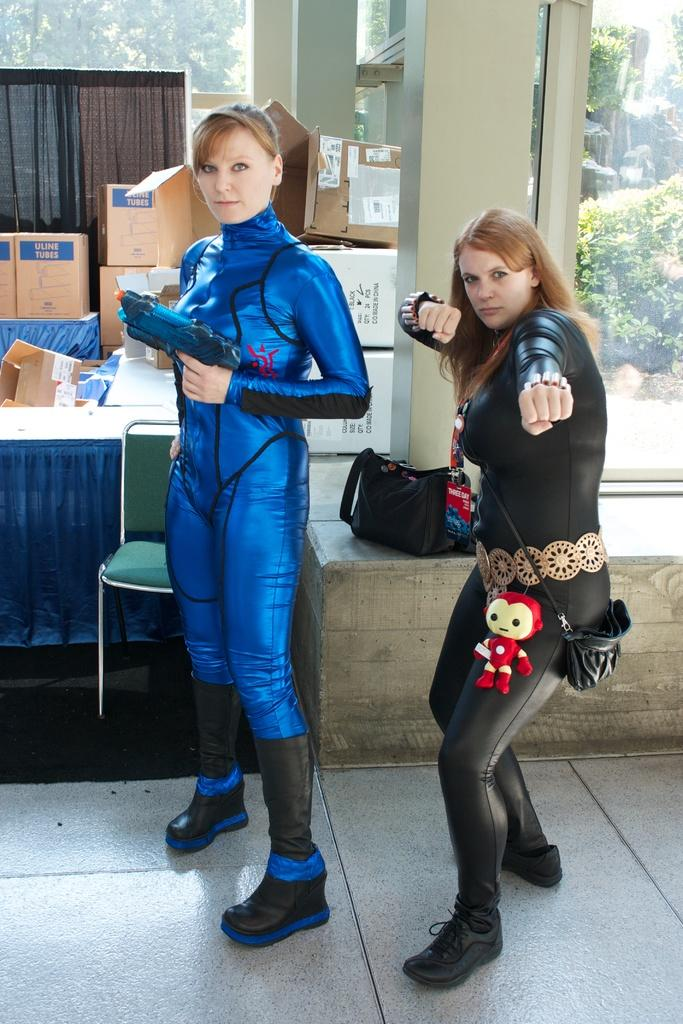Luggage-and-bags: (493, 315, 639, 692), (265, 103, 408, 248), (343, 438, 489, 552), (102, 157, 216, 268), (0, 227, 95, 327), (93, 260, 172, 367)
